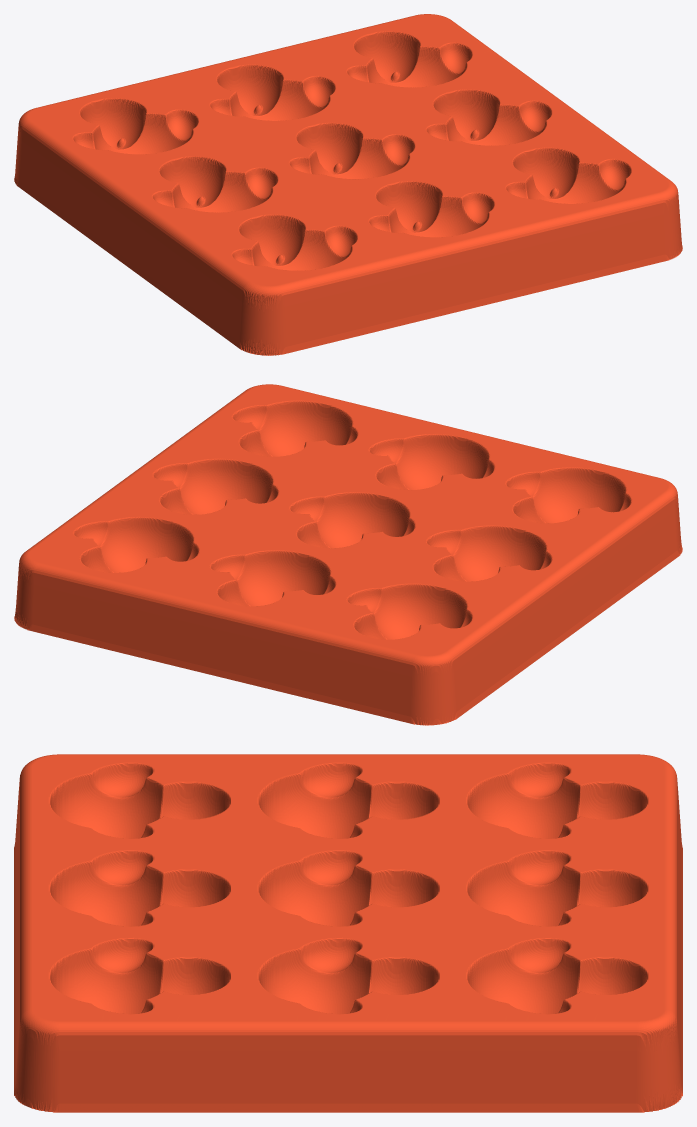
The model's file is mold.glb.
The picture shows the model from 3 angles, top to bottom: view 1: azimuth 30°, elevation 25°; view 2: azimuth 150°, elevation 25°; view 3: azimuth 270°, elevation 25°; orthographic projection. The views are drawn at different scales.
Parts seen in each view (by area): view 1: geometry_0; view 2: geometry_0; view 3: geometry_0.
Boxes of the visible parts, x1,y1,x2,y2 form: geometry_0: [14, 14, 682, 355]; geometry_0: [14, 384, 682, 725]; geometry_0: [14, 754, 682, 1112].
Bounding box in the file's own units: 0.131 × 0.0181 × 0.1317.
